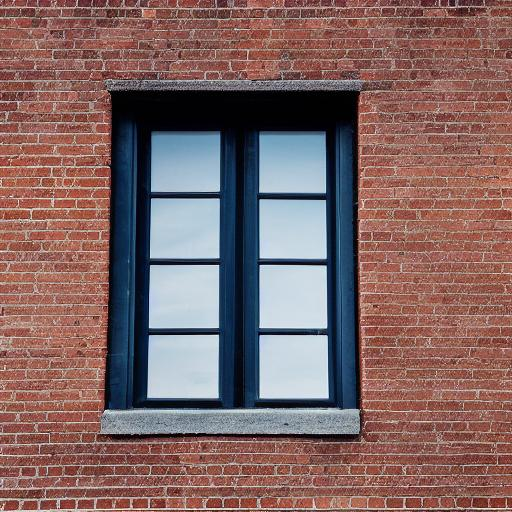Window: (95, 73, 366, 438)
